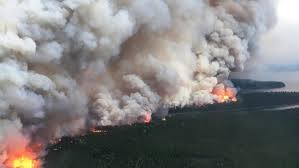fire: (194, 78, 246, 104), (5, 140, 48, 168)
